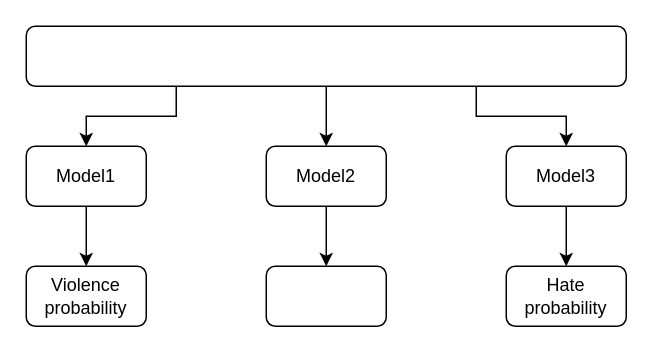
Some shapes in this 653 by 353 pixel diagram are drawn without their labels. Each missing label, with the centre of its shape:
"Fused features" belongs at pixel 325 55.
"Nudity probability" belongs at pixel 325 295.
